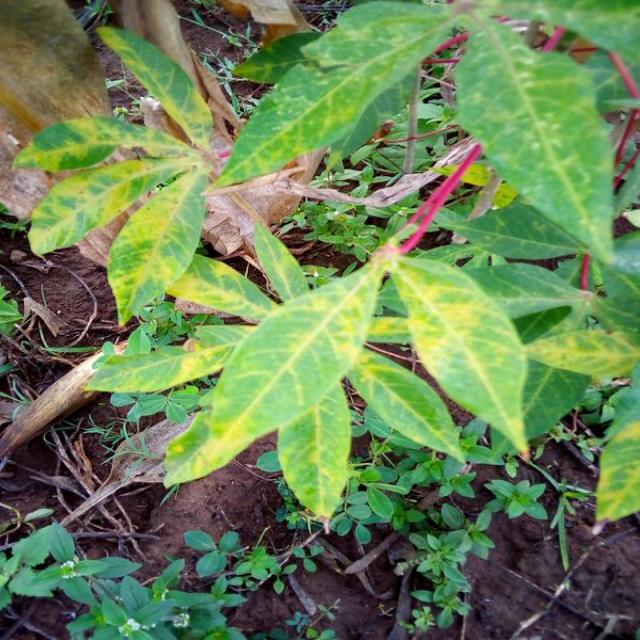cassava leaf: (16, 2, 638, 528), (162, 257, 386, 523), (207, 0, 458, 192), (452, 16, 617, 265)
